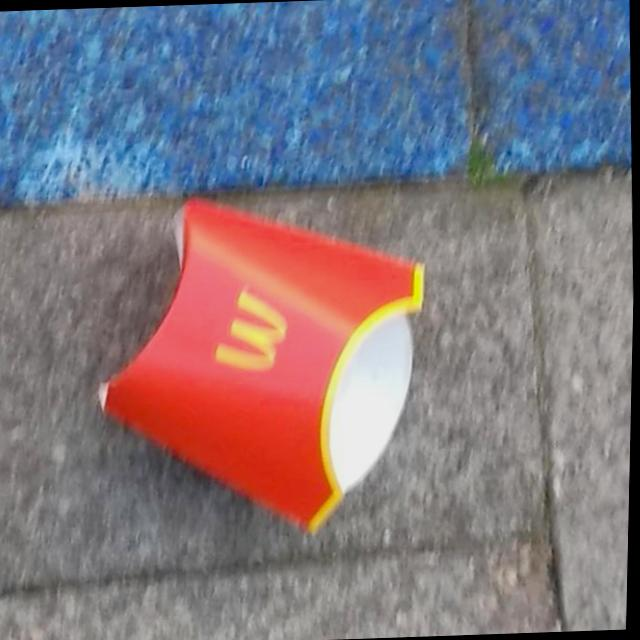Paper: (83, 185, 442, 545)
